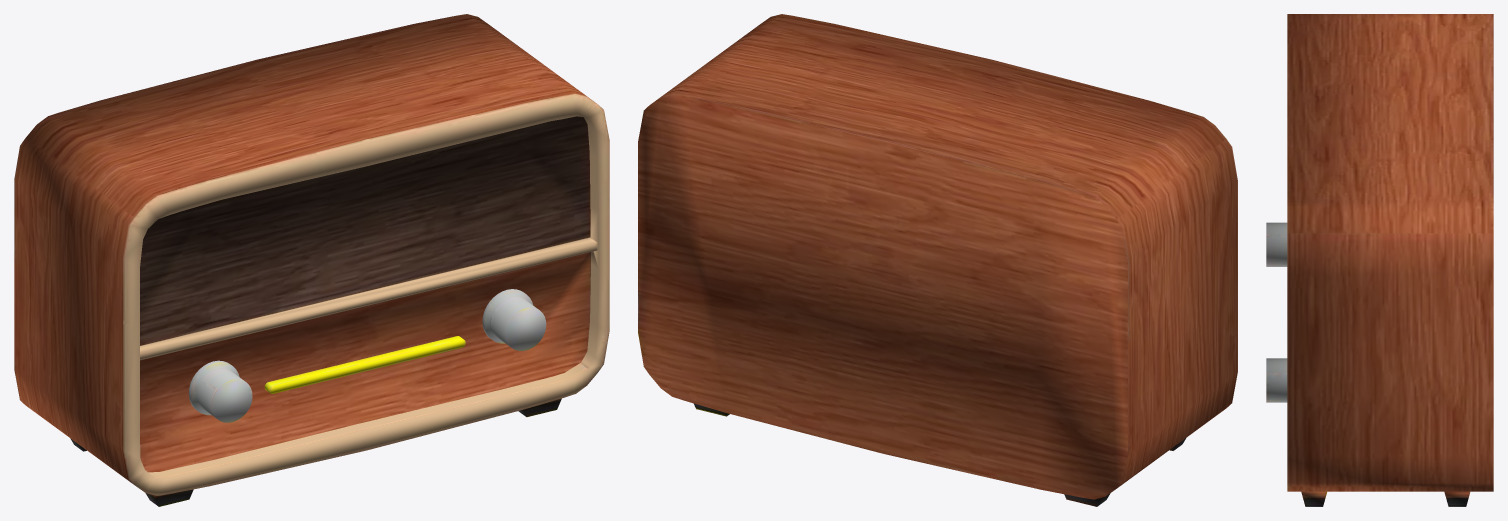
The model's file is radioB.glb.
3 views of the same model, side by side, from view 1: azimuth 30°, elevation 25°; view 2: azimuth 150°, elevation 25°; view 3: azimuth 270°, elevation 25° (orthographic). The views are drawn at different scales.
Parts seen in each view (by area): view 1: LowPolyRadio_Material_0; view 2: LowPolyRadio_Material_0; view 3: LowPolyRadio_Material_0.
Boxes of the visible parts, x1,y1,x2,y2 form: LowPolyRadio_Material_0: (14,14,609,506); LowPolyRadio_Material_0: (638,14,1237,506); LowPolyRadio_Material_0: (1266,14,1493,506).
Size of the model in its own units: 255 by 164 by 109.
Materials: 1 (1 with a texture image).
